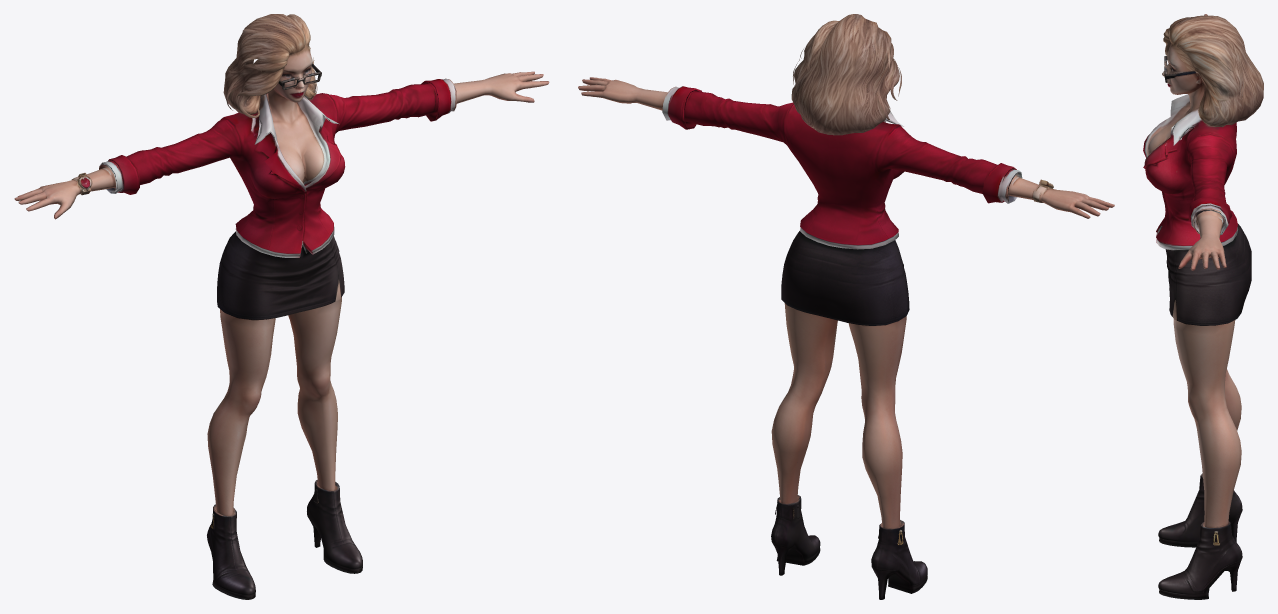
File: celina-red-eyes.glb
3 views of the same model, side by side, from view 1: azimuth 30°, elevation 25°; view 2: azimuth 150°, elevation 25°; view 3: azimuth 270°, elevation 25° (orthographic).
Parts seen in each view (by area): view 1: tripo_015f1495_3e45_487a_81c1_ec392421e296; view 2: tripo_015f1495_3e45_487a_81c1_ec392421e296; view 3: tripo_015f1495_3e45_487a_81c1_ec392421e296.
Part boxes in pixels (x1,y1,x2,y2): tripo_015f1495_3e45_487a_81c1_ec392421e296: [14, 14, 549, 599]; tripo_015f1495_3e45_487a_81c1_ec392421e296: [578, 14, 1114, 599]; tripo_015f1495_3e45_487a_81c1_ec392421e296: [1143, 14, 1263, 599].
Bounding box in the file's own units: 0.9897 × 0.9995 × 0.1997.
1 material, 1 textured.
